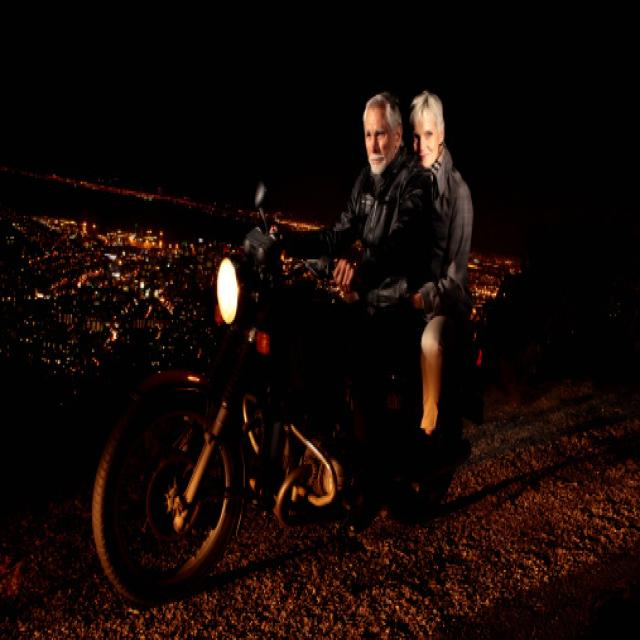Motorbike: (91, 177, 487, 607)
